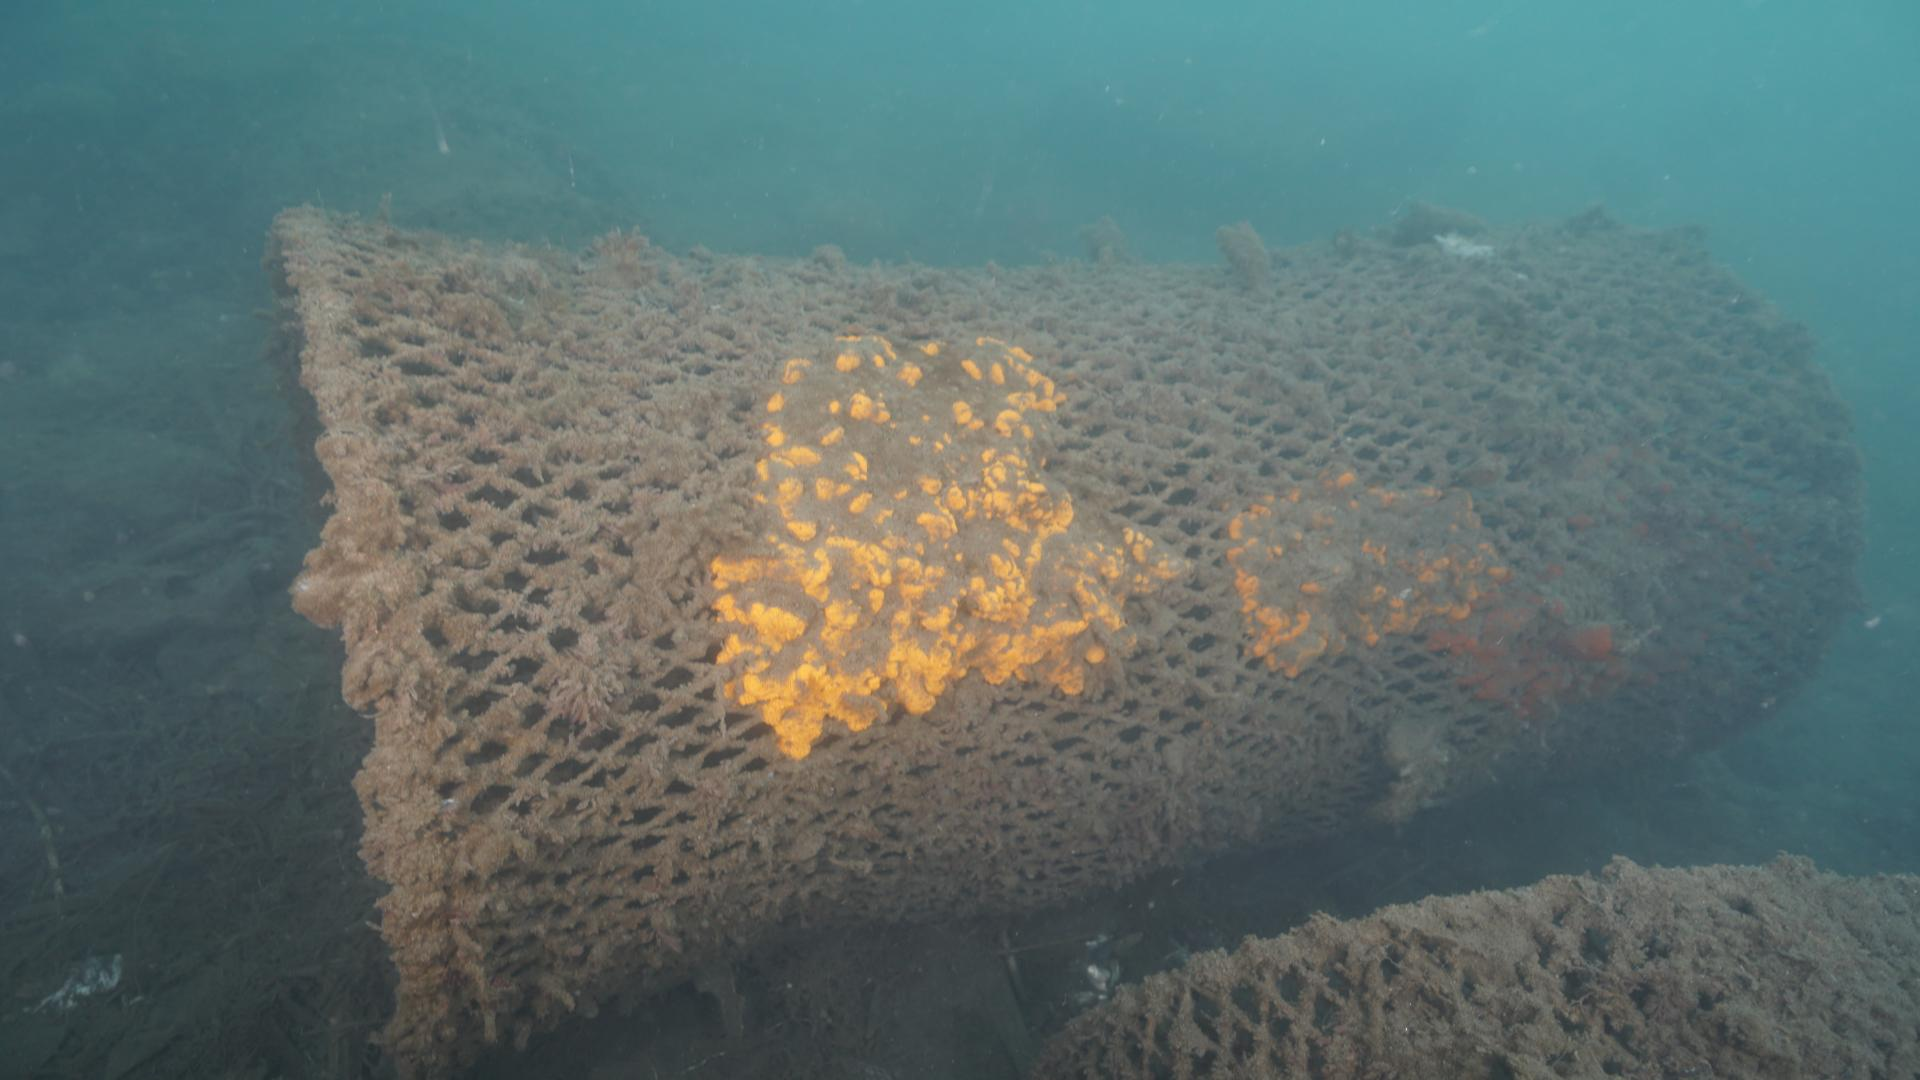spring fish trap: (261, 200, 1863, 1065)
